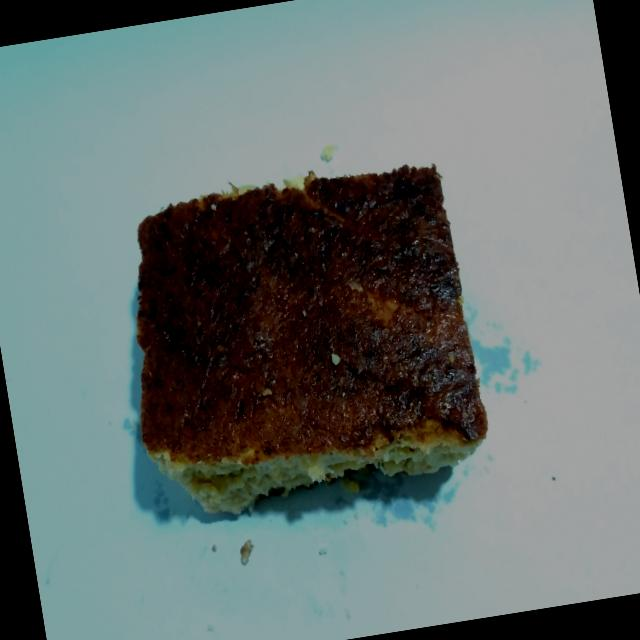Chipa_Guazu: (94, 138, 510, 536)
